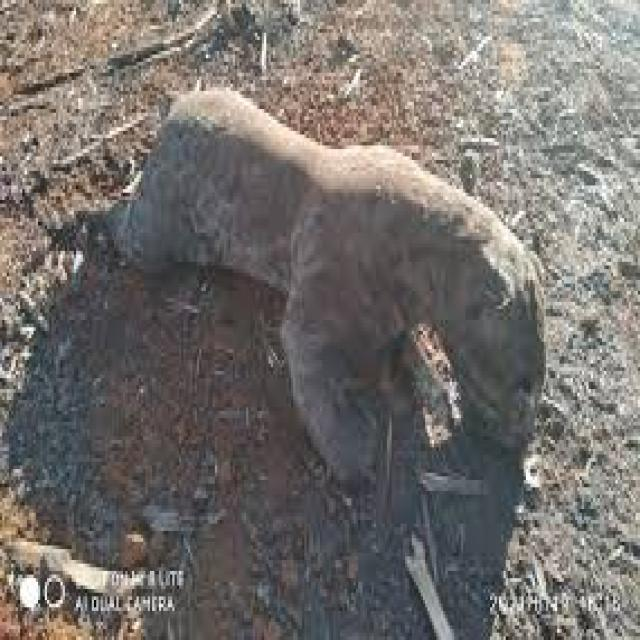Jaguar: (116, 65, 544, 422)
